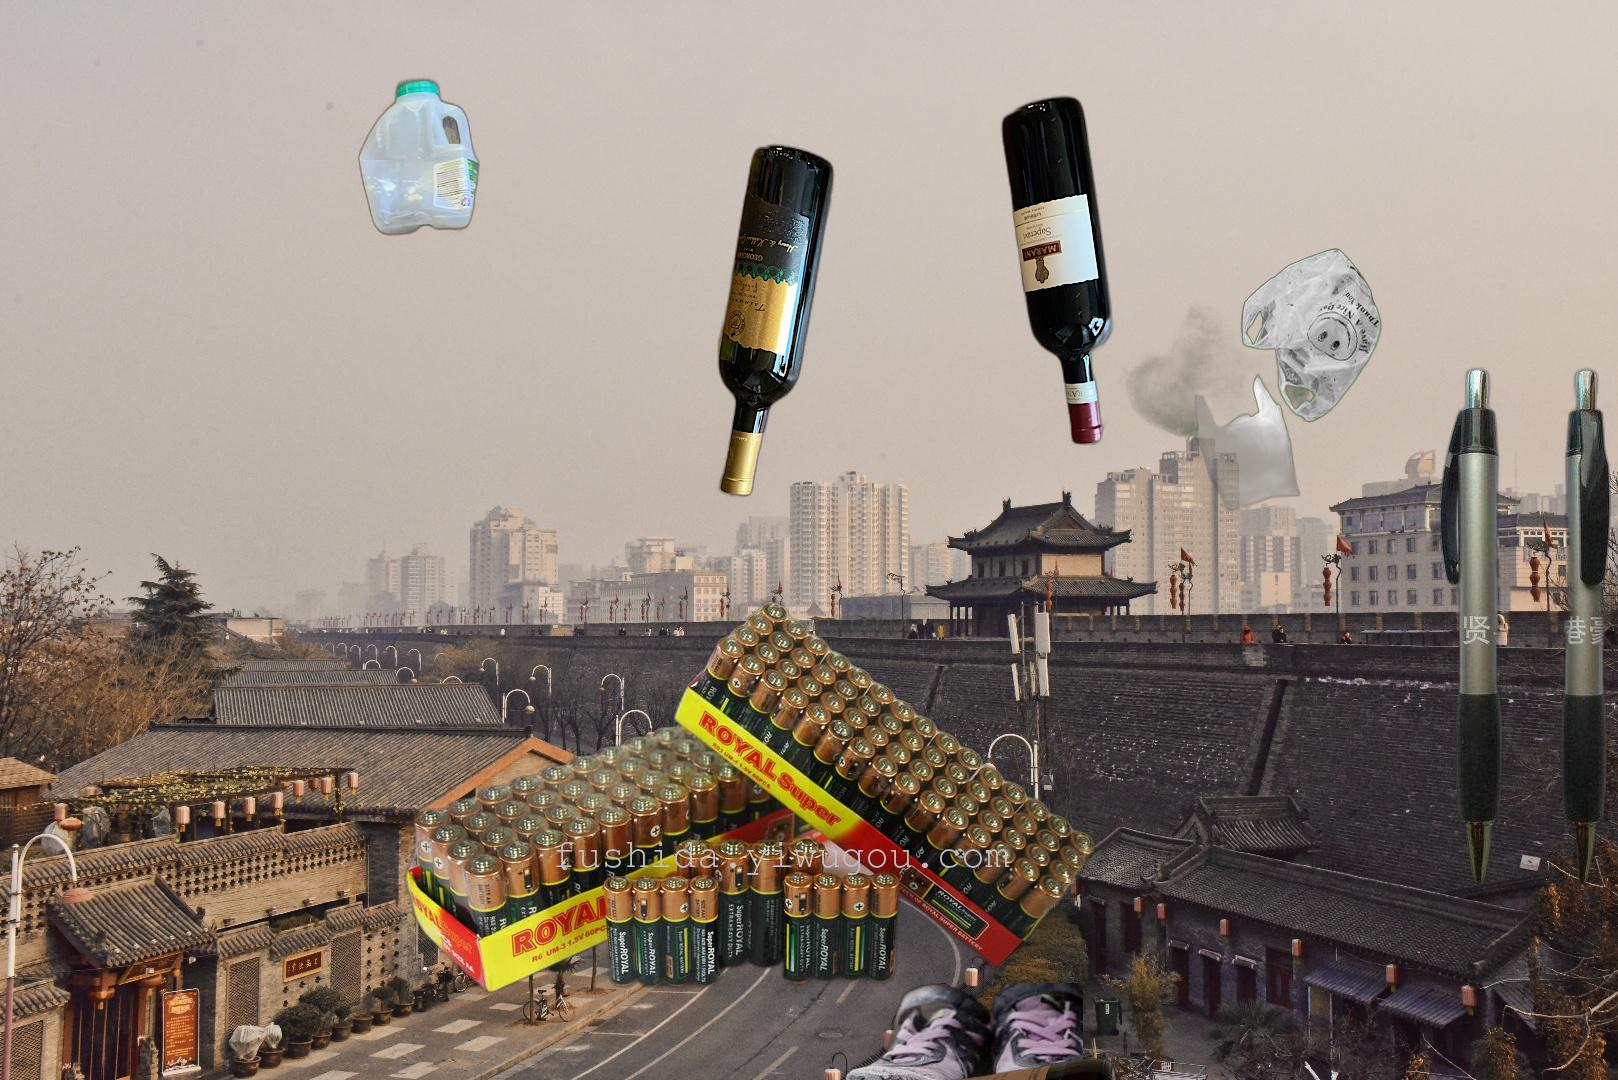battery: (401, 597, 1101, 1006)
glass: (714, 90, 1118, 501), (765, 1055, 1132, 1080)
penholder: (1436, 363, 1618, 884)
plastic-bag: (1100, 230, 1383, 530)
plastic-bottles: (354, 74, 483, 241)
shoes: (832, 984, 1083, 1080)
